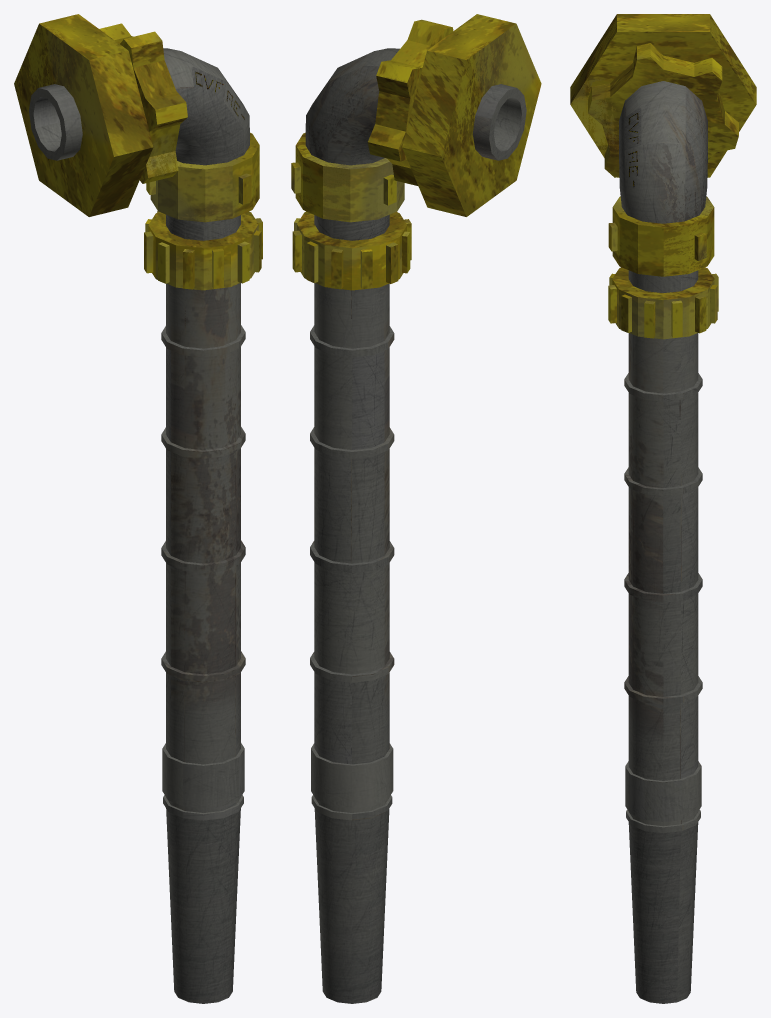
File: pipe.fbx
3 renders of one model, left to right at view 1: azimuth 30°, elevation 25°; view 2: azimuth 150°, elevation 25°; view 3: azimuth 270°, elevation 25°, orthographic. The views are drawn at different scales.
Visible parts, largest first — view 1: Plane, Plane.002; view 2: Plane, Plane.002; view 3: Plane, Plane.002.
Boxes of the visible parts, x1,y1,x2,y2 form: Plane: (29, 48, 249, 1003); Plane.002: (14, 14, 262, 290); Plane: (305, 48, 526, 1003); Plane.002: (291, 14, 541, 290); Plane: (619, 81, 707, 1003); Plane.002: (570, 14, 756, 339).
Size of the model in its own units: 46.47 by 211 by 38.83.
